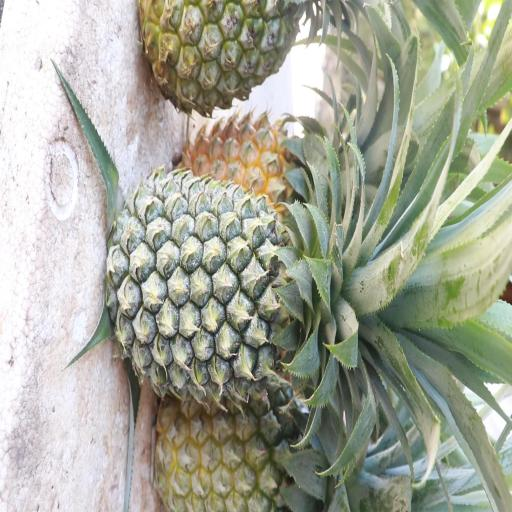------------------------------: (157, 383, 340, 512), (142, 0, 327, 112)
